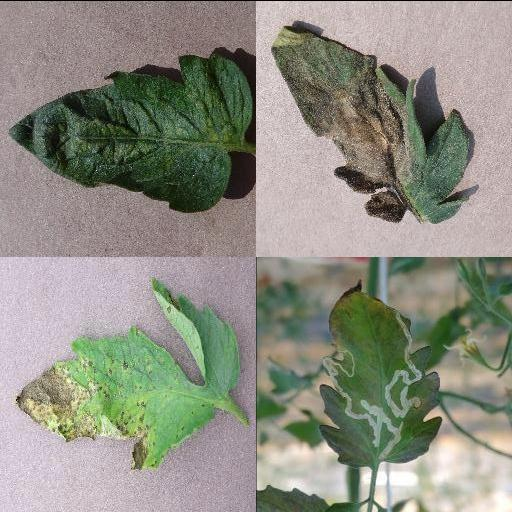Late Blight: (271, 25, 471, 223)
Leaf Miner: (318, 276, 444, 469)
Septoria: (18, 277, 242, 468)
Spider Mites: (7, 54, 253, 212)
